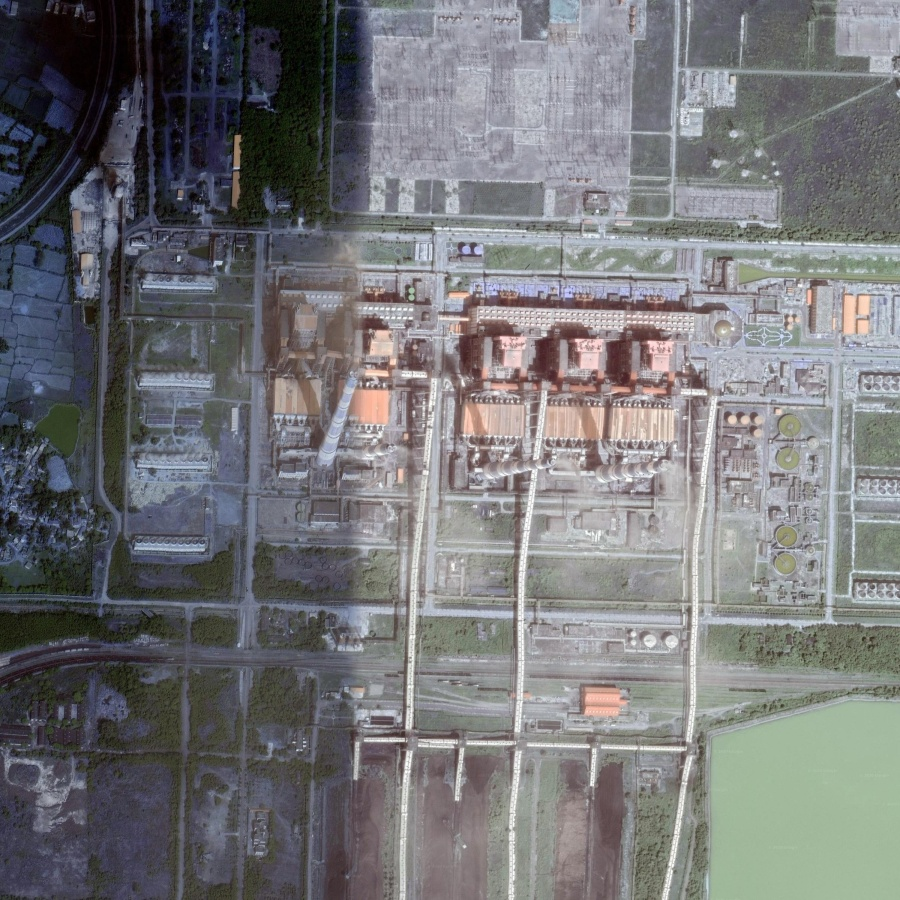PowerPlant: (248, 224, 710, 566)
